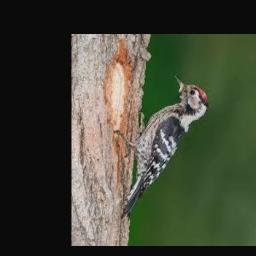Woodpecker: (115, 75, 209, 217)
